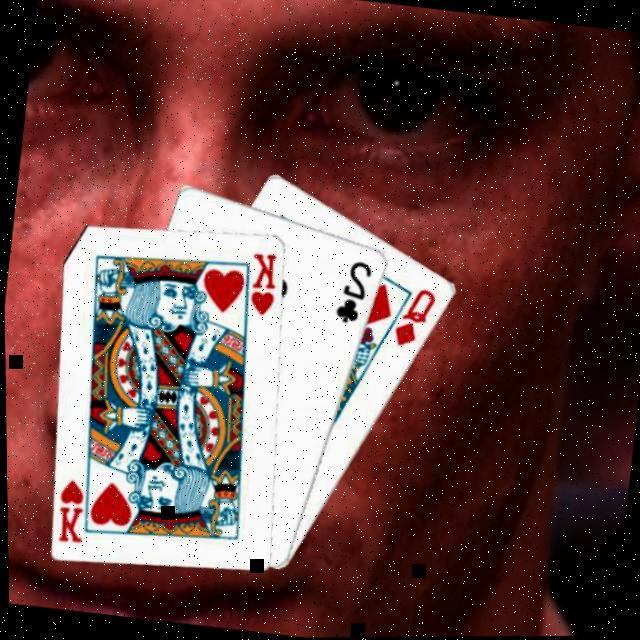2C: (332, 255, 378, 327)
KH: (52, 473, 93, 546), (244, 248, 284, 318)
QD: (389, 282, 442, 352)
